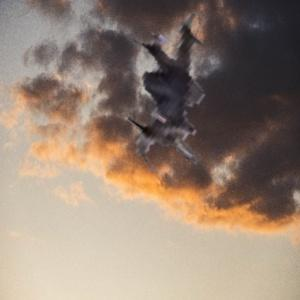drone: (96, 3, 272, 179)
